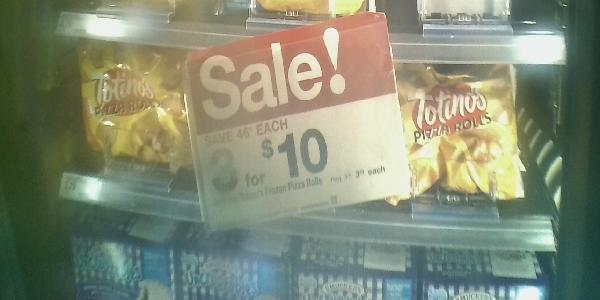icecream: (384, 55, 536, 217), (67, 38, 213, 184)
